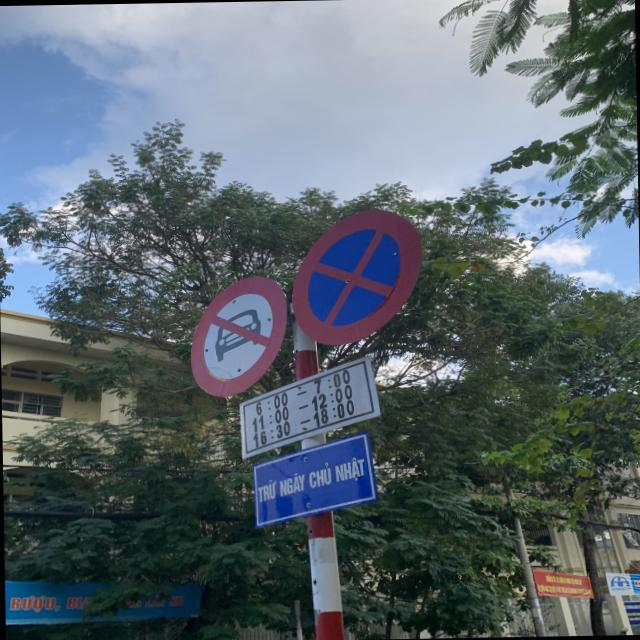Cam_Dung_Va_Dau_Xe: (290, 207, 426, 347)
Cam_O_To: (186, 274, 288, 396)
